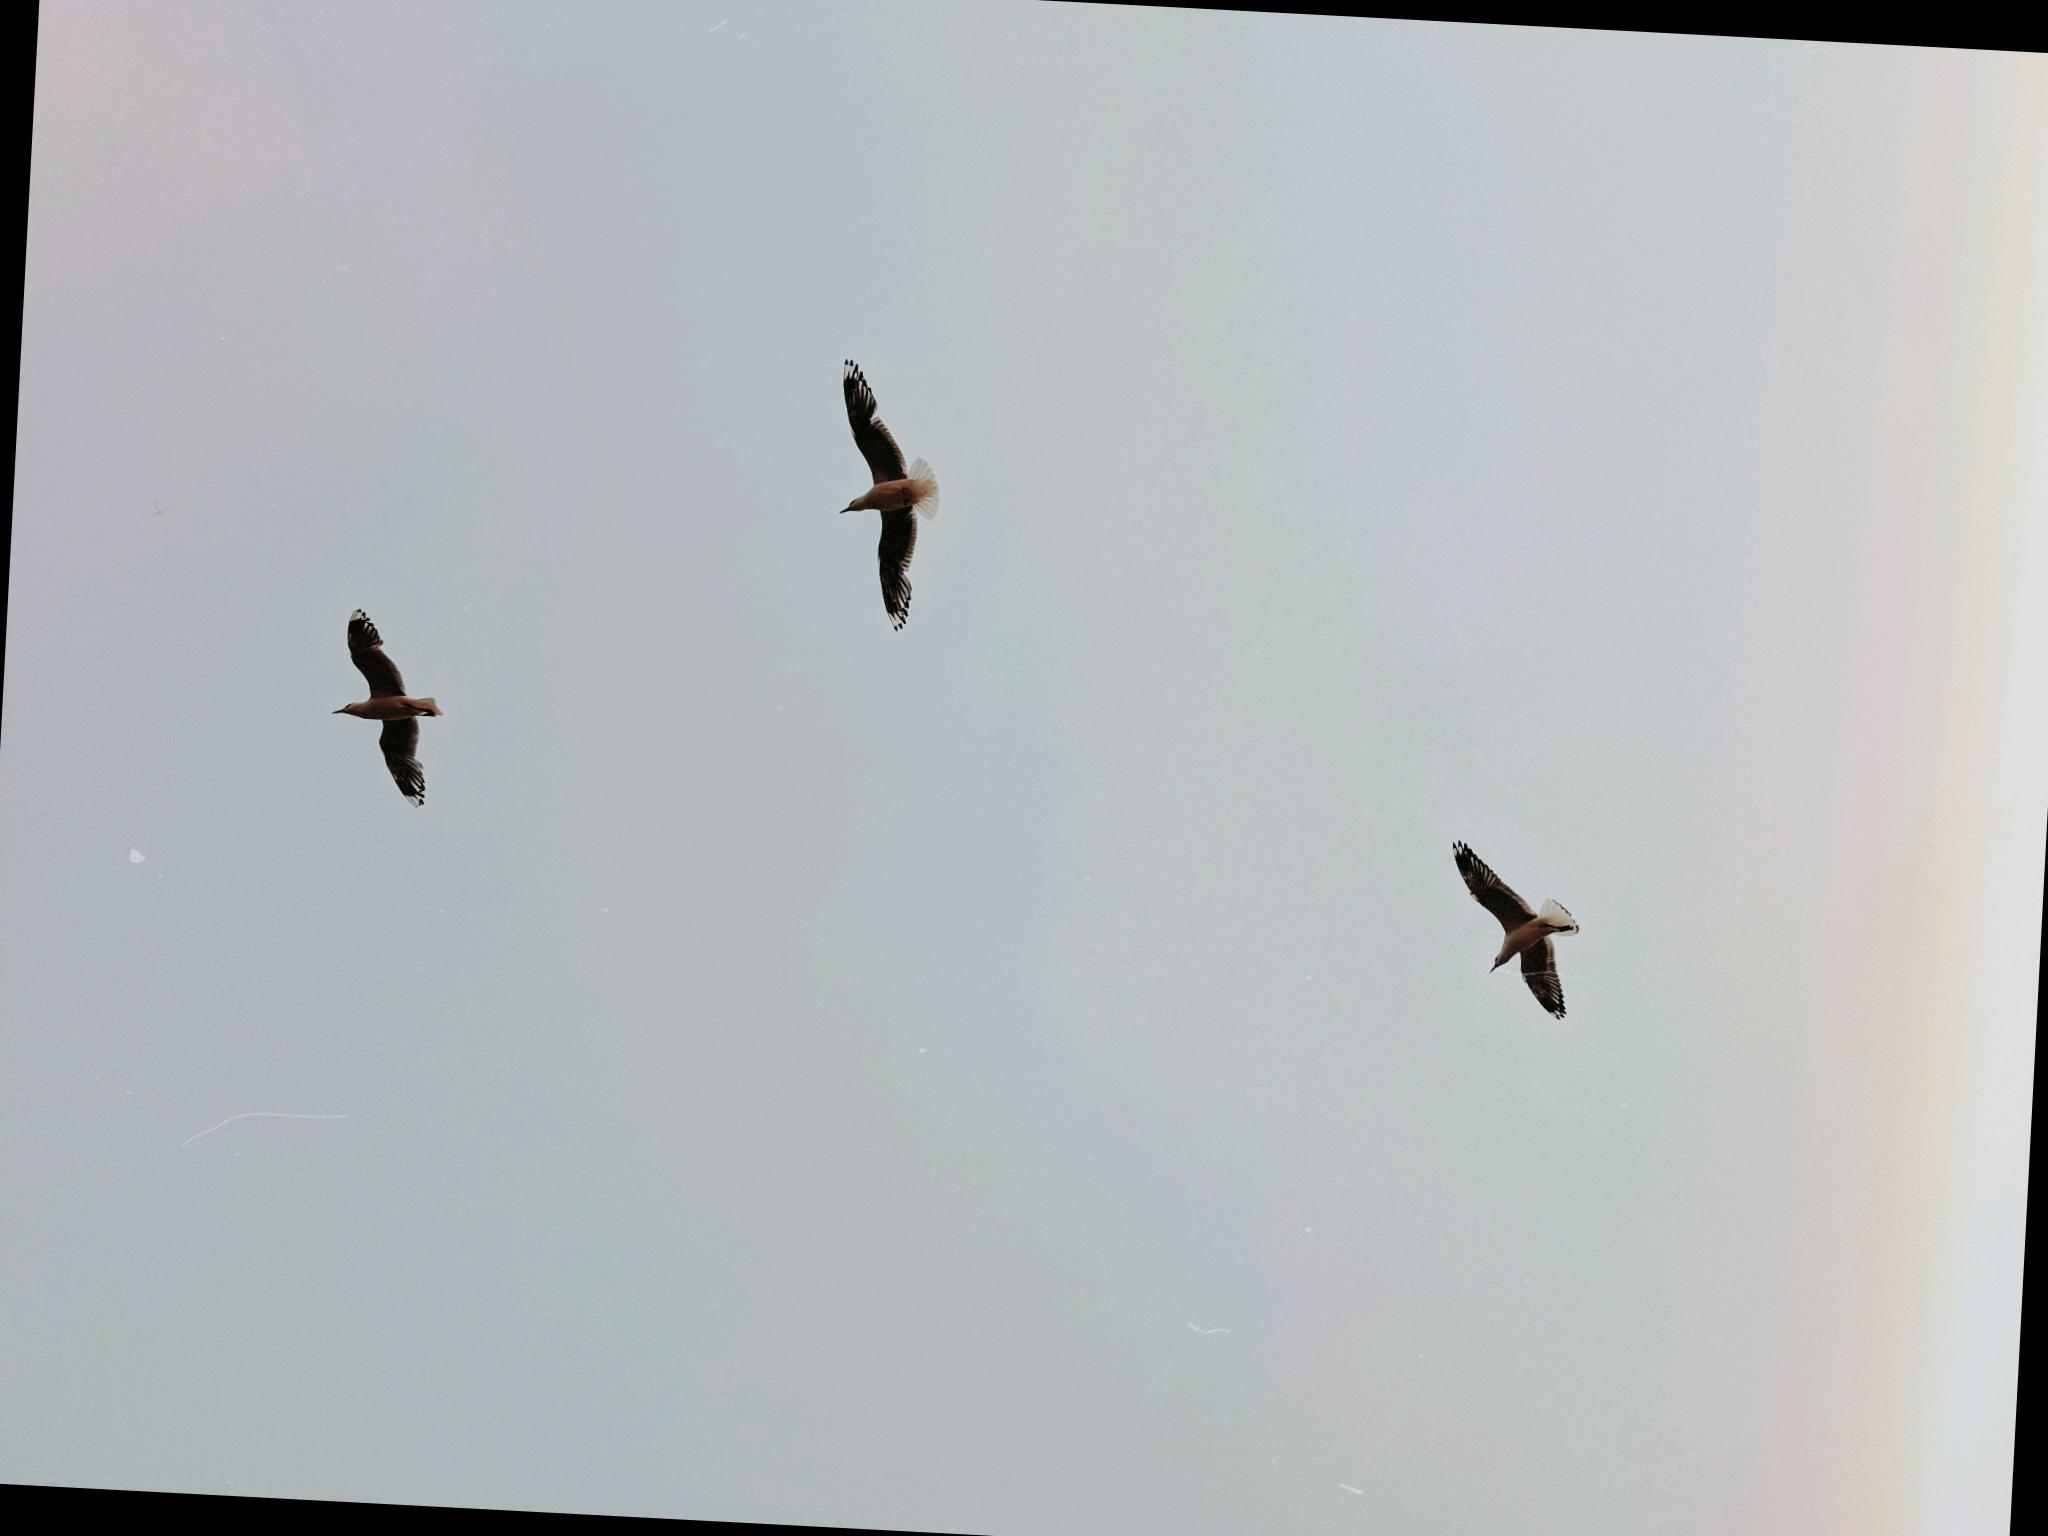bird: (281, 586, 519, 834), (793, 318, 963, 665), (1419, 823, 1630, 1029)
